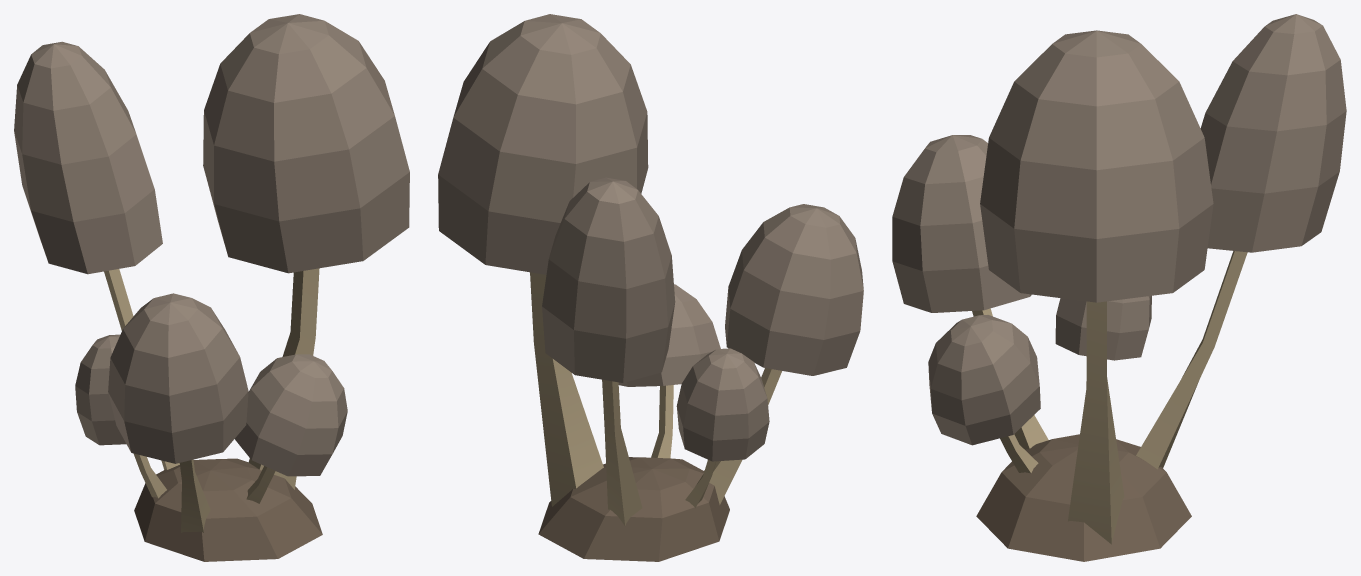
The model's file is MushroomTall_Mesh.fbx.
3 views of the same model, side by side, from view 1: azimuth 30°, elevation 25°; view 2: azimuth 150°, elevation 25°; view 3: azimuth 270°, elevation 25° (orthographic). The views are drawn at different scales.
Parts seen in each view (by area): view 1: MushroomTall_Mesh; view 2: MushroomTall_Mesh; view 3: MushroomTall_Mesh.
Part boxes in pixels (x1,y1,x2,y2): MushroomTall_Mesh: (14,14,409,561); MushroomTall_Mesh: (438,14,863,561); MushroomTall_Mesh: (892,14,1346,561).
Bounding box in the file's own units: 38.19 × 51.68 × 40.62.
